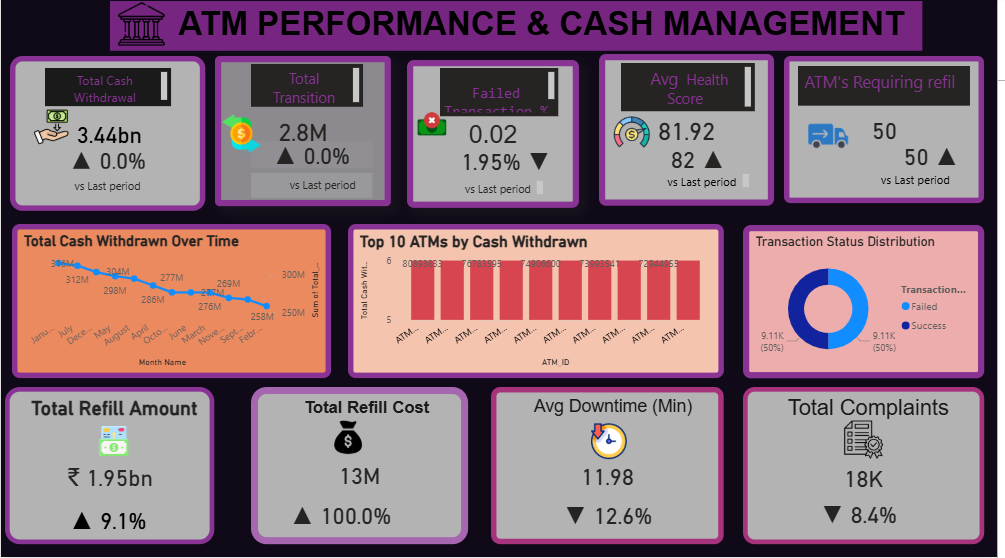

The dashboard page shown, as its layout file describes it:
{"tool":"powerbi","page":{"name":"ATM PERFORMANCE & CASH MANAGEMENT","canvas":[1280,720],"ordinal":0},"visuals":[{"type":"textbox","box":[140.1,5.1,1043.5,64.3],"z":0},{"type":"card","fields":{"Values":["measures (2).Withdrawal Growth %"]},"box":[63,194.1,116.9,33.4],"z":1000},{"type":"card","fields":{"Values":["measures (2).Total Transactions"]},"box":[275,75.8,226.2,192.8],"z":2000},{"type":"textbox","box":[321.3,86.1,143.9,55.3],"z":3000},{"type":"card","fields":{"Values":["measures (2).Total Transactions Growth Display"]},"box":[321.3,185.1,155.5,34.7],"z":4000},{"type":"textbox","box":[321.3,226.2,155.5,32.1],"z":5000},{"type":"card","fields":{"Values":["measures (2).Total Cash Withdrawn"]},"box":[11.6,75.8,250.6,199.2],"z":6000},{"type":"card","fields":{"Values":["measures (2).Withdrawal Growth Display"]},"box":[63,192.8,147.8,33.4],"z":7000},{"type":"textbox","box":[56.5,227.5,160.6,30.8],"z":8000},{"type":"card","fields":{"Values":["measures (2).Failed Transaction %"]},"box":[521.8,81,221,190.2],"z":9000},{"type":"textbox","box":[564.2,91.2,151.6,61.7],"z":10000},{"type":"card","fields":{"Values":["measures (2).Failed Transaction KPI"]},"box":[575.7,190.2,146.5,41.1],"z":11000},{"type":"textbox","box":[583.5,231.3,118.2,28.3],"z":12000},{"type":"card","fields":{"Values":["measures (2).Average Health Score"]},"box":[768.5,73.3,224.9,195.3],"z":13000},{"type":"textbox","box":[796.8,84.8,172.2,61.7],"z":14000},{"type":"card","fields":{"Values":["measures (2).Health Score KPI"]},"box":[825.1,190.2,141.4,36],"z":15000},{"type":"textbox","box":[839.2,222.3,127.2,28.3],"z":16000},{"type":"card","fields":{"Values":["measures (2).ATMs Requiring Refill"]},"box":[1006.3,75.8,257,188.9],"z":17000},{"type":"textbox","box":[1024.3,88.7,221,51.4],"z":18000},{"type":"card","fields":{"Values":["measures (2).ATM Refill KPI"]},"box":[1145.1,186.3,100.2,36],"z":19000},{"type":"textbox","box":[1121.9,219.8,123.4,30.8],"z":20000},{"type":"lineChart","title":"Total Cash Withdrawn Over Time","fields":{"Category":["atm_project_db atm_cash_performance (2).Month Name"],"Y2":["Sum(atm_project_db atm_cash_performance (2).Total_Withdrawal)"]},"box":[13.6,291.4,410,198.2],"z":21000},{"type":"clusteredColumnChart","title":"Top 10 ATMs by Cash Withdrawn","fields":{"Category":["atm_project_db atm_master (2).ATM_ID"],"Y":["measures (2).Total Cash Withdrawn"]},"box":[445.6,291.4,482.8,198.2],"z":22000},{"type":"donutChart","title":"Transaction Status Distribution","fields":{"Category":["atm_project_db transactions (2).Transaction_Status"],"Y":["CountNonNull(atm_project_db atm_cash_performance (2).ATM_ID)"]},"box":[953.8,293.1,310,196.5],"z":23000},{"type":"card","title":"Total Refill Amount","fields":{"Values":["measures (2).Total Refill Amount"]},"box":[5.1,501.5,269.4,201.6],"z":24000},{"type":"card","fields":{"Values":["measures (2).Refill Indicator"]},"box":[73.3,654.1,128.5,36],"z":25000},{"type":"card","title":"Total Refill Cost","fields":{"Values":["measures (2).Total Refill Cost"]},"box":[321.3,501.2,278.9,201.8],"z":26000},{"type":"card","fields":{"Values":["measures (2).Refill Rate Indicator"]},"box":[362.4,641.3,147.8,47.6],"z":27000},{"type":"card","title":"Avg Downtime (Min)","fields":{"Values":["measures (2).Average Downtime"]},"box":[629.7,501.2,299.4,201.8],"z":28000},{"type":"card","fields":{"Values":["measures (2).Downtime Indicator"]},"box":[688.8,640,181.2,50.1],"z":29000},{"type":"card","title":"Total Complaints","fields":{"Values":["measures (2).Total Customer Complaints"]},"box":[954,501,310,202],"z":30000},{"type":"card","fields":{"Values":["measures (2).Complaints Indicator"]},"box":[1001.1,638.7,201.8,50.1],"z":31000},{"type":"textbox","box":[56.5,91.2,161.9,48.8],"z":32000},{"type":"image","box":[29.6,143.9,69.4,46.3],"z":33000},{"type":"image","box":[275,150.4,68.1,50.1],"z":34000},{"type":"image","box":[521.8,142.7,64.3,43.7],"z":35000},{"type":"image","box":[782.7,146.5,56.5,54],"z":36000},{"type":"image","box":[1023,146.5,79.7,64.3],"z":37000},{"type":"image","box":[110.5,550,69.4,41.1],"z":38000},{"type":"image","box":[424.1,539.8,43.7,51.4],"z":39000},{"type":"image","box":[758.2,544.9,46.3,51.4],"z":40000},{"type":"image","box":[1082.1,539.8,52.7,57.8],"z":41000},{"type":"image","box":[137.5,5.1,86.1,59.1],"z":42000}]}

Visuals, with their boxes in screenshot pixels (x1, y1, x2, y2), scaled from the page's 1280x720 canvas onto the 1005x558 screenshot:
textbox: crop(110, 4, 929, 54)
card - measures (2).Withdrawal Growth %: crop(49, 150, 141, 176)
card - measures (2).Total Transactions: crop(216, 59, 394, 208)
textbox: crop(252, 67, 365, 110)
card - measures (2).Total Transactions Growth Display: crop(252, 143, 374, 170)
textbox: crop(252, 175, 374, 200)
card - measures (2).Total Cash Withdrawn: crop(9, 59, 206, 213)
card - measures (2).Withdrawal Growth Display: crop(49, 149, 166, 175)
textbox: crop(44, 176, 170, 200)
card - measures (2).Failed Transaction %: crop(410, 63, 583, 210)
textbox: crop(443, 71, 562, 118)
card - measures (2).Failed Transaction KPI: crop(452, 147, 567, 179)
textbox: crop(458, 179, 551, 201)
card - measures (2).Average Health Score: crop(603, 57, 780, 208)
textbox: crop(626, 66, 761, 114)
card - measures (2).Health Score KPI: crop(648, 147, 759, 175)
textbox: crop(659, 172, 759, 194)
card - measures (2).ATMs Requiring Refill: crop(790, 59, 992, 205)
textbox: crop(804, 69, 978, 109)
card - measures (2).ATM Refill KPI: crop(899, 144, 978, 172)
textbox: crop(881, 170, 978, 194)
"Total Cash Withdrawn Over Time" lineChart: crop(11, 226, 333, 379)
"Top 10 ATMs by Cash Withdrawn" clusteredColumnChart: crop(350, 226, 729, 379)
"Transaction Status Distribution" donutChart: crop(749, 227, 992, 379)
"Total Refill Amount" card: crop(4, 389, 216, 545)
card - measures (2).Refill Indicator: crop(58, 507, 158, 535)
"Total Refill Cost" card: crop(252, 388, 471, 545)
card - measures (2).Refill Rate Indicator: crop(285, 497, 401, 534)
"Avg Downtime (Min)" card: crop(494, 388, 729, 545)
card - measures (2).Downtime Indicator: crop(541, 496, 683, 535)
"Total Complaints" card: crop(749, 388, 992, 545)
card - measures (2).Complaints Indicator: crop(786, 495, 944, 534)
textbox: crop(44, 71, 171, 108)
image: crop(23, 112, 78, 147)
image: crop(216, 117, 269, 155)
image: crop(410, 111, 460, 144)
image: crop(615, 114, 659, 155)
image: crop(803, 114, 866, 163)
image: crop(87, 426, 141, 458)
image: crop(333, 418, 367, 458)
image: crop(595, 422, 632, 462)
image: crop(850, 418, 891, 463)
image: crop(108, 4, 176, 50)
